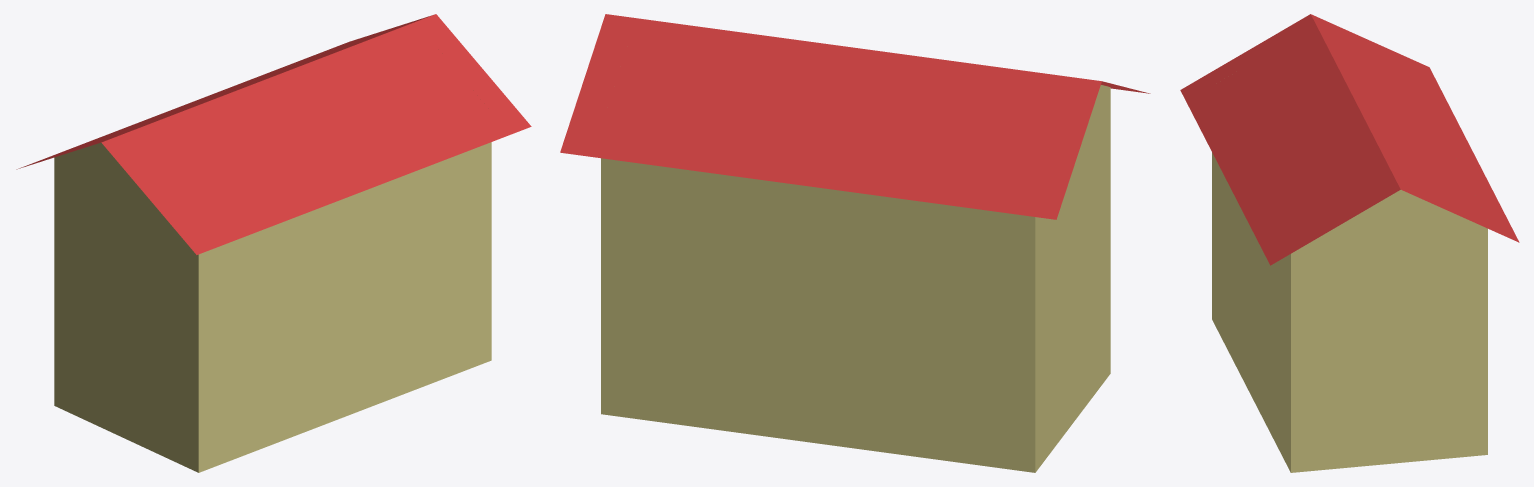
3 renders of one model, left to right at view 1: azimuth 30°, elevation 25°; view 2: azimuth 150°, elevation 25°; view 3: azimuth 270°, elevation 25°, orthographic. The views are drawn at different scales.
Bounding box in the file's own units: 8.8 × 6.36 × 5.88.
